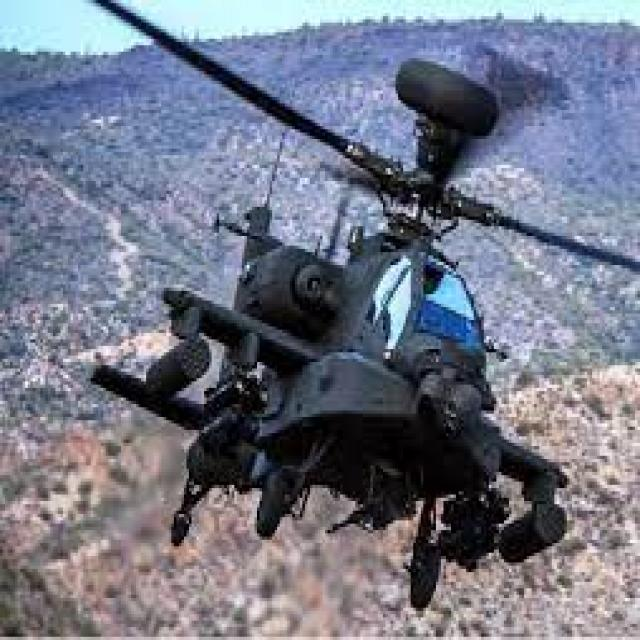Apache: (85, 3, 640, 610)
